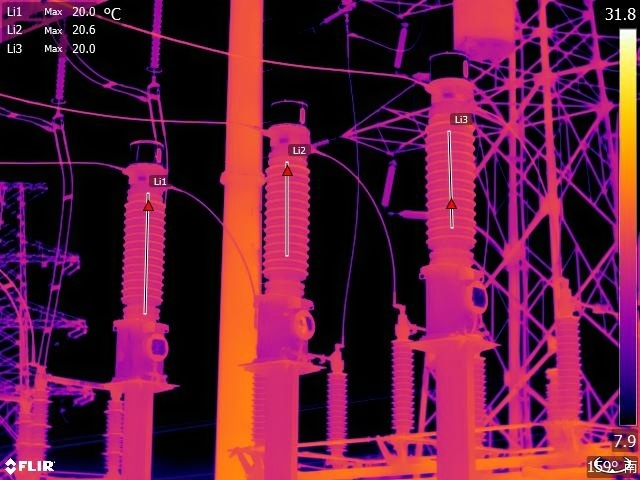clamp: (134, 87, 167, 108), (45, 115, 73, 139)
current transformer: (247, 93, 331, 364), (416, 45, 487, 342), (104, 138, 176, 389)
insulator: (146, 1, 170, 72), (52, 36, 71, 102), (382, 155, 400, 208), (395, 18, 411, 67), (322, 1, 354, 25), (395, 205, 429, 220)
post insulator: (555, 311, 585, 427), (388, 335, 419, 437), (27, 388, 55, 473), (327, 369, 350, 456), (12, 397, 34, 480), (102, 397, 122, 475)
switch: (546, 290, 616, 320), (36, 372, 110, 398), (384, 308, 435, 339), (310, 338, 353, 373)
wave trap: (445, 1, 525, 66)
